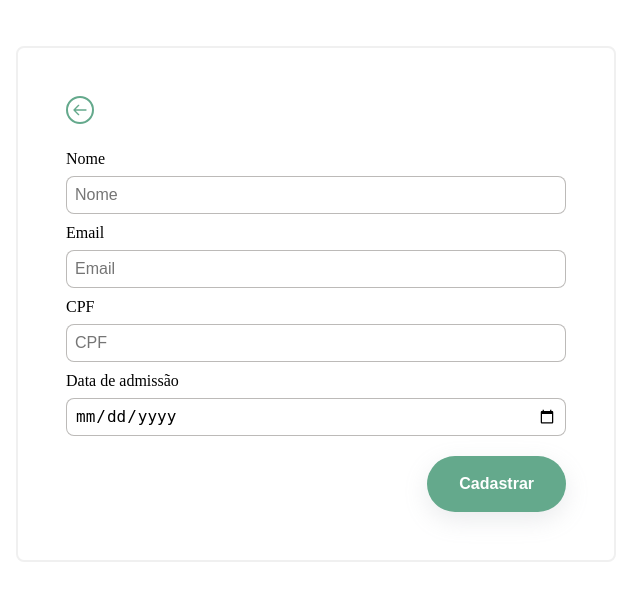
Test: NewRegistrationPage › should show error messages when submitting invalid form
The image size is (633, 609).
Click the button "Cadastrar" at (497,484), box [427, 456, 566, 512]
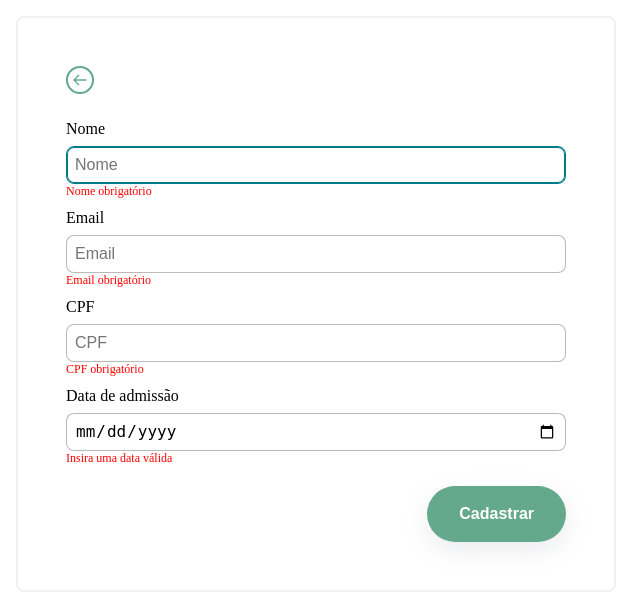
Check: the text "Nome obrigatório" is shown, box [66, 184, 152, 198]
Check: the text "Email obrigatório" is shown, box [66, 273, 151, 287]
Check: the text "CPF obrigatório" is shown, box [66, 362, 144, 376]
